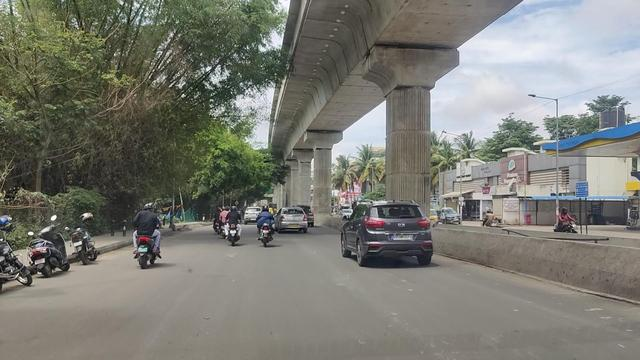LMV: (351, 193, 433, 275), (129, 197, 159, 272), (253, 200, 278, 249), (224, 200, 242, 246)
